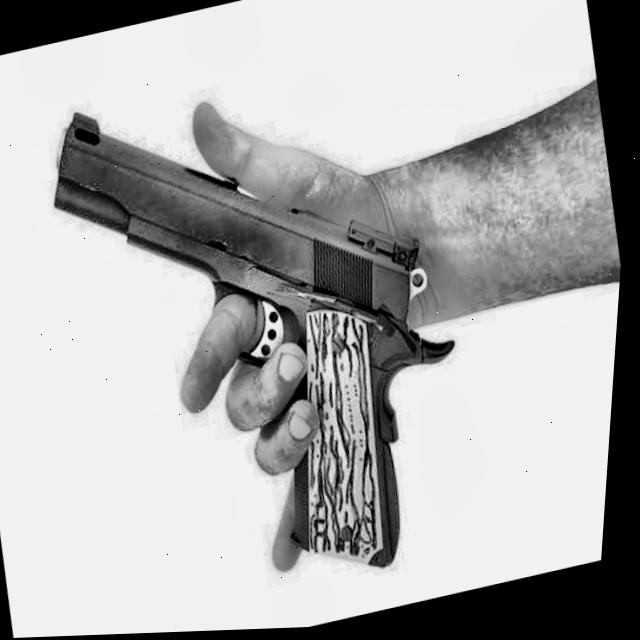pistol: (0, 8, 524, 639)
